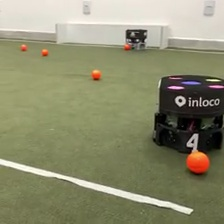ball: (184, 148, 211, 176), (90, 68, 102, 80), (19, 42, 28, 51), (40, 47, 49, 56), (123, 42, 130, 51)
goal: (54, 21, 170, 50)
robot: (149, 73, 224, 154), (123, 27, 147, 51)
